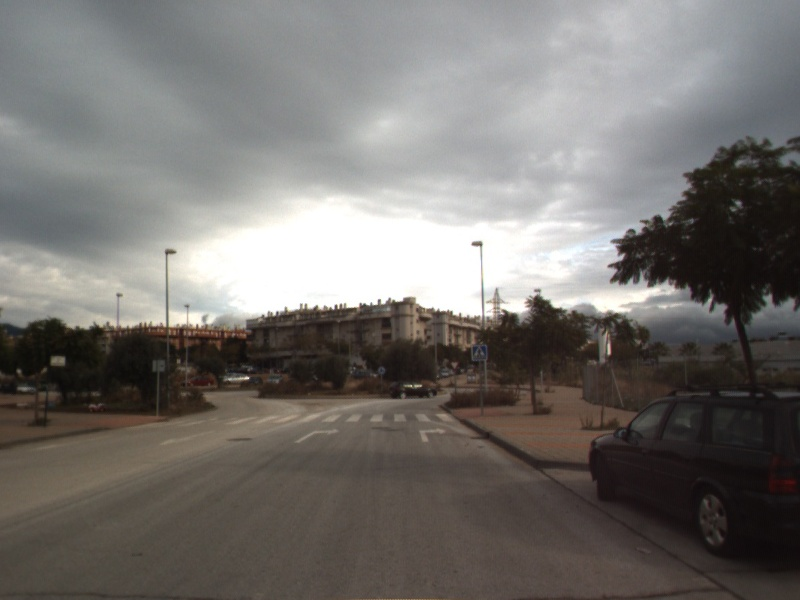RIGHT: (292, 426, 342, 445), (417, 425, 448, 444)
